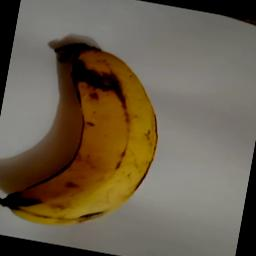Banana Unripe: (0, 29, 175, 242)
